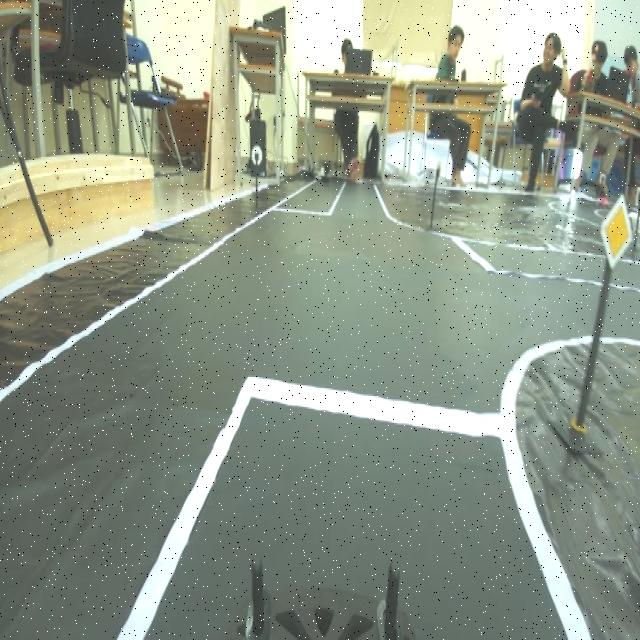priority: (592, 187, 640, 269)
